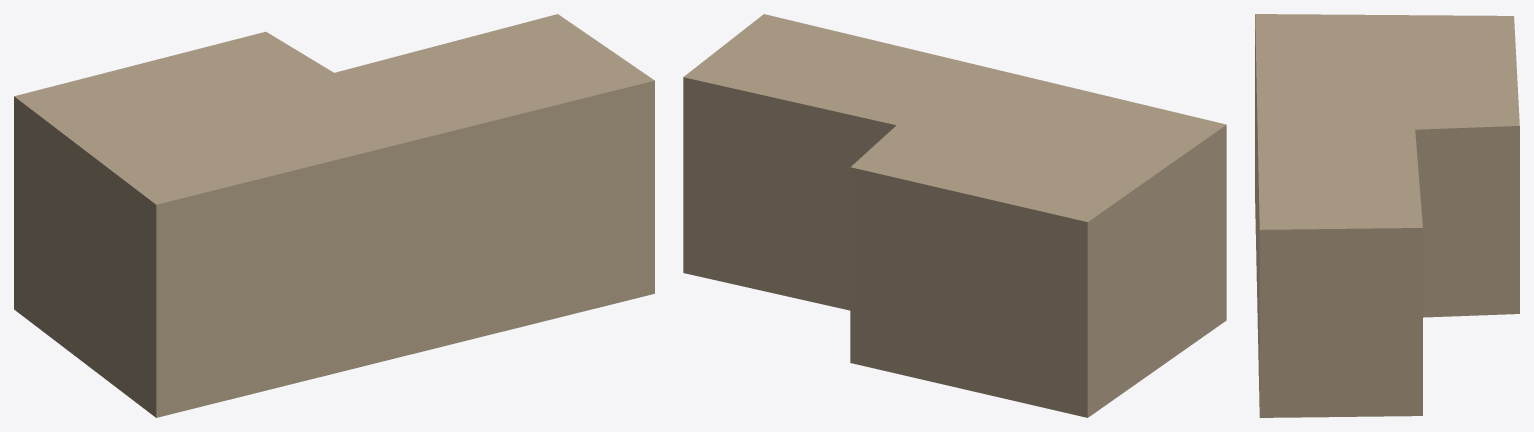
Rendered from bld_99615934.dae.
3 views of the same model, side by side, from view 1: azimuth 30°, elevation 25°; view 2: azimuth 150°, elevation 25°; view 3: azimuth 270°, elevation 25° (orthographic). The views are drawn at different scales.
Visible parts, largest first — view 1: bld_99615934; view 2: bld_99615934; view 3: bld_99615934.
Boxes of the visible parts, left/top/right/bottom form: bld_99615934: left=14, top=14, right=654, bottom=417; bld_99615934: left=683, top=14, right=1226, bottom=417; bld_99615934: left=1255, top=14, right=1519, bottom=417.
Bounding box in the file's own units: 19.69 × 10.2 × 8.
